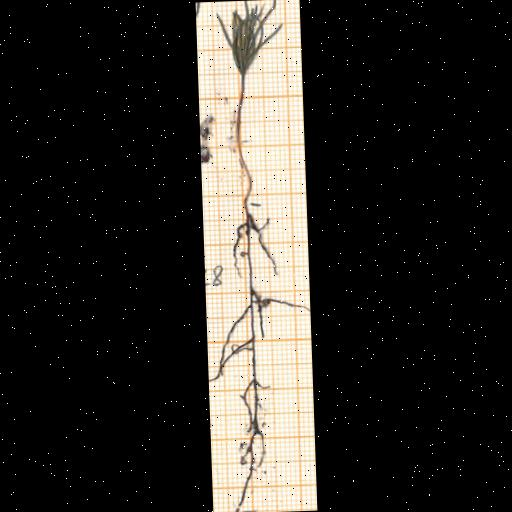flowerPinus: (217, 0, 281, 75)
rootPinus: (215, 211, 304, 506)
stemPinus: (234, 75, 252, 208)
